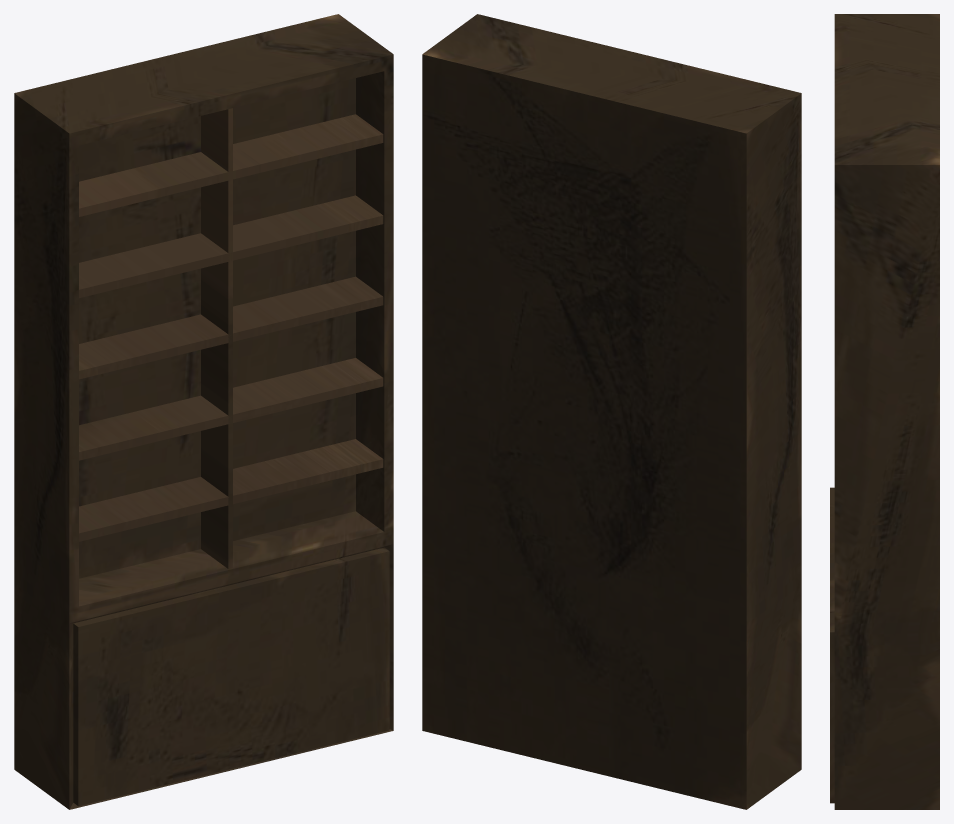
Rendered from Livingroom_bookshelf.fbx.
3 views of the same model, side by side, from view 1: azimuth 30°, elevation 25°; view 2: azimuth 150°, elevation 25°; view 3: azimuth 270°, elevation 25° (orthographic). The views are drawn at different scales.
Parts seen in each view (by area): view 1: polySurface120; view 2: polySurface120; view 3: polySurface120.
Part boxes in pixels (x1,y1,x2,y2): polySurface120: [14, 14, 393, 809]; polySurface120: [422, 14, 801, 809]; polySurface120: [830, 14, 939, 809].
Size of the model in its own units: 0.0996 by 0.1984 by 0.0306.
